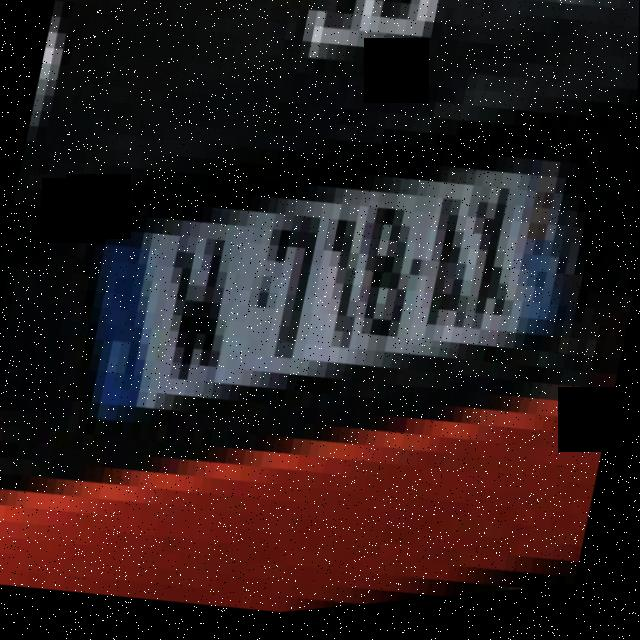1: (303, 201, 386, 383)
7: (239, 190, 337, 400)
8: (347, 190, 435, 365)
A: (408, 175, 496, 363)
W: (141, 204, 253, 405)
X: (451, 174, 541, 352)
